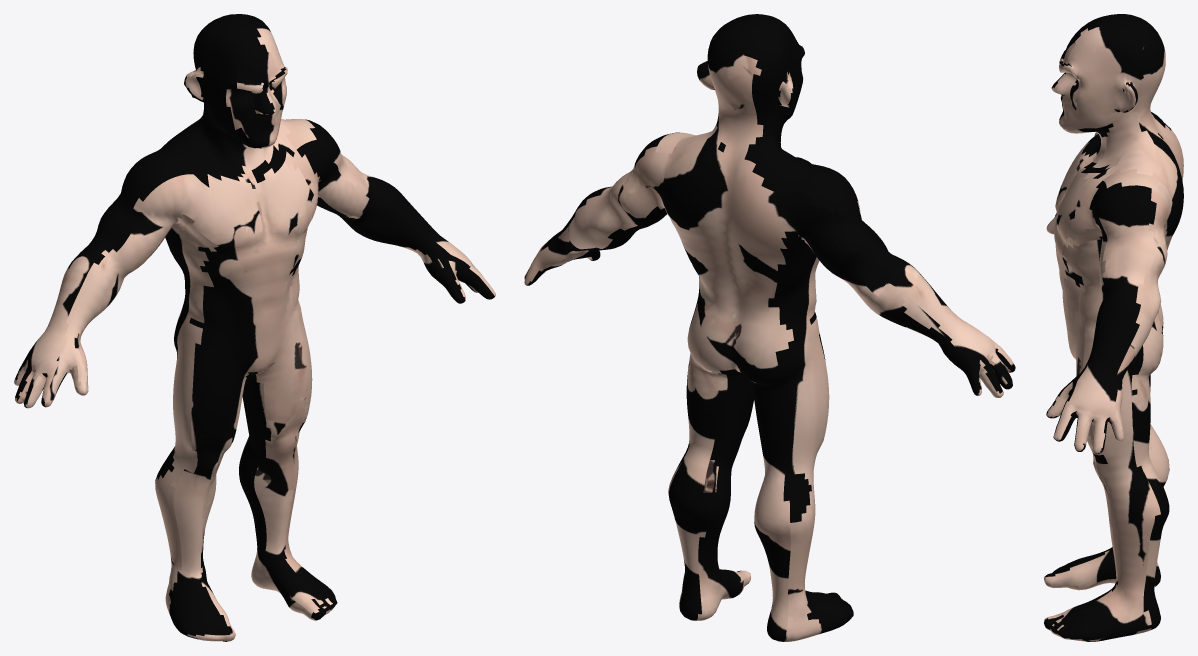
Rendered from hybrid.glb.
The picture shows the model from 3 angles, left to right: view 1: azimuth 30°, elevation 25°; view 2: azimuth 150°, elevation 25°; view 3: azimuth 270°, elevation 25°; orthographic projection. The views are drawn at different scales.
Parts seen in each view (by area): view 1: hybrid; view 2: hybrid; view 3: hybrid.
Part boxes in pixels (x1,y1,x2,y2): hybrid: (14,14,495,641); hybrid: (524,14,1015,641); hybrid: (1044,14,1183,641).
Size of the model in its own units: 1.49 by 1.8 by 0.3863.
Materials: 1 (1 with a texture image).
